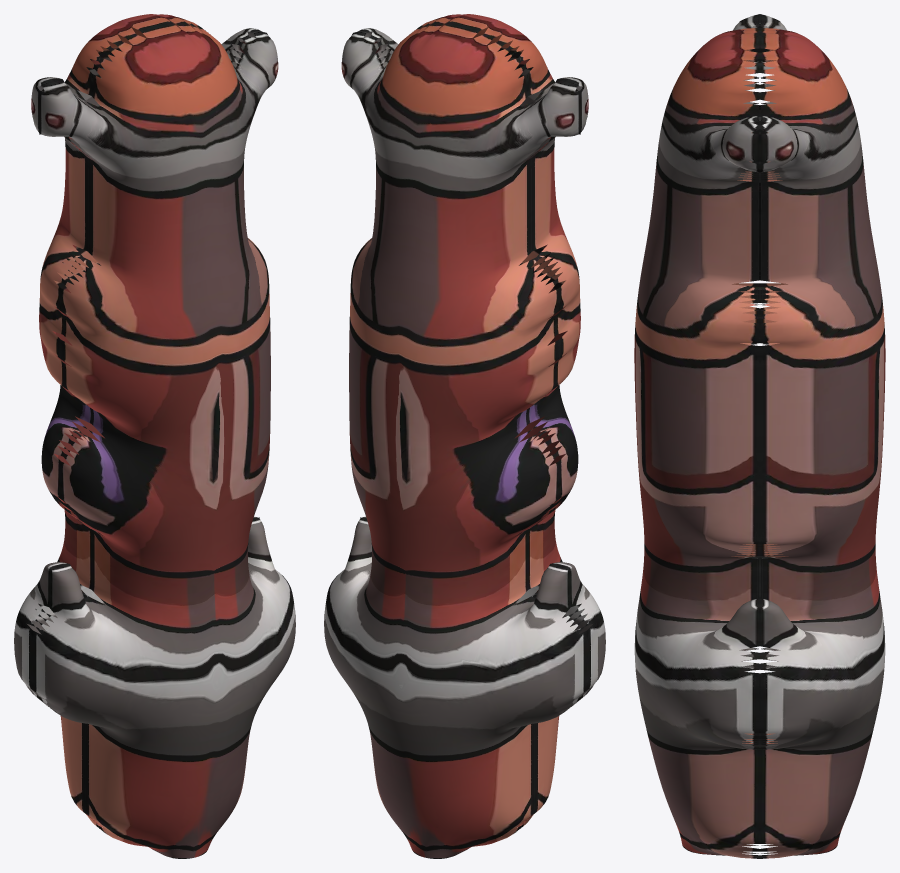
The model's file is red_riser.glb.
3 renders of one model, left to right at view 1: azimuth 30°, elevation 25°; view 2: azimuth 150°, elevation 25°; view 3: azimuth 270°, elevation 25°, orthographic.
Parts seen in each view (by area): view 1: red_riser; view 2: red_riser; view 3: red_riser.
Boxes of the visible parts, box(x1,y1,x2,y2) form: red_riser: box(14, 14, 295, 858); red_riser: box(324, 14, 605, 858); red_riser: box(634, 14, 885, 858).
Size of the model in its own units: 0.9664 by 3.02 by 0.8562.
1 material, 1 textured.
